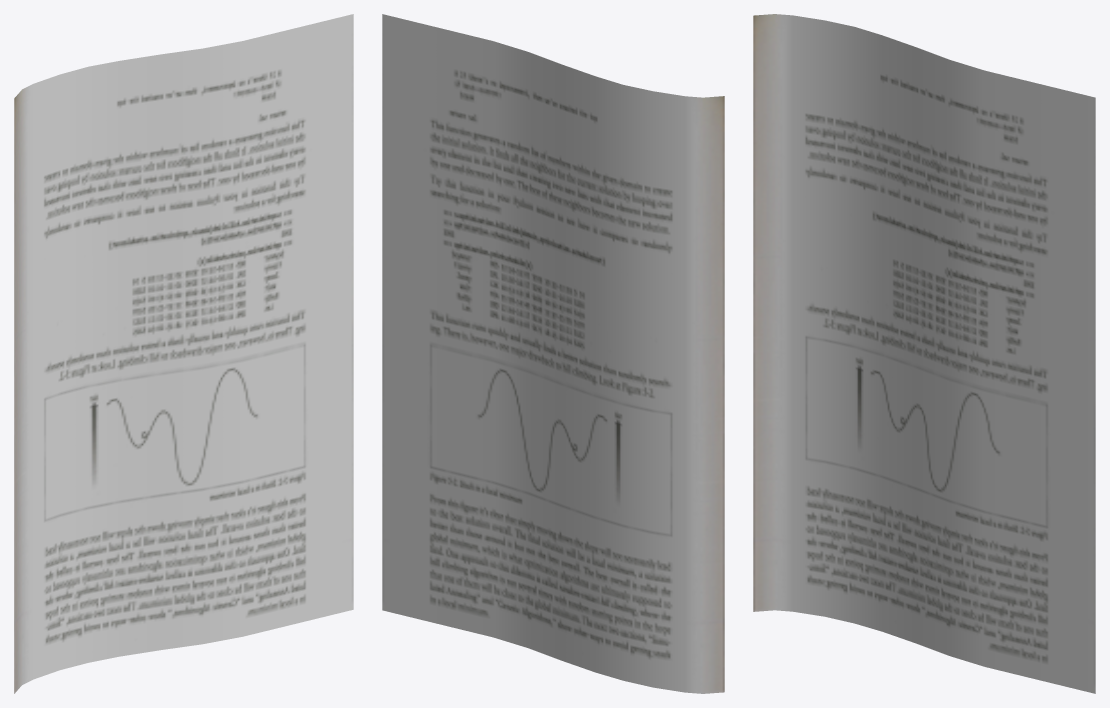
The model's file is MeshBookFront_16_1_GeomSubset_2.obj.
3 renders of one model, left to right at view 1: azimuth 30°, elevation 25°; view 2: azimuth 150°, elevation 25°; view 3: azimuth 330°, elevation 25°, orthographic.
Parts seen in each view (by area): view 1: MeshBookFront_16_1_GeomSubset_2; view 2: MeshBookFront_16_1_GeomSubset_2; view 3: MeshBookFront_16_1_GeomSubset_2.
Boxes of the visible parts, x1,y1,x2,y2 form: MeshBookFront_16_1_GeomSubset_2: [14, 14, 353, 693]; MeshBookFront_16_1_GeomSubset_2: [382, 14, 724, 693]; MeshBookFront_16_1_GeomSubset_2: [753, 14, 1095, 693].
Size of the model in its own units: 0.1258 by 0.2103 by 0.00885.
